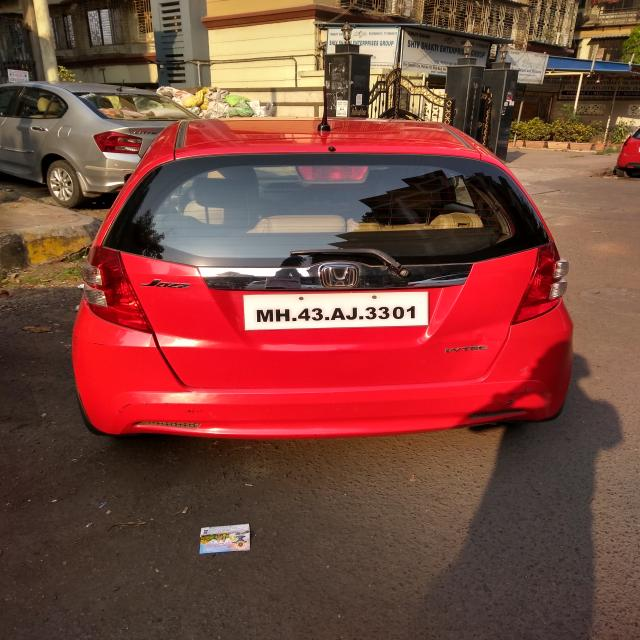Number-Plate: (247, 293, 427, 329)
